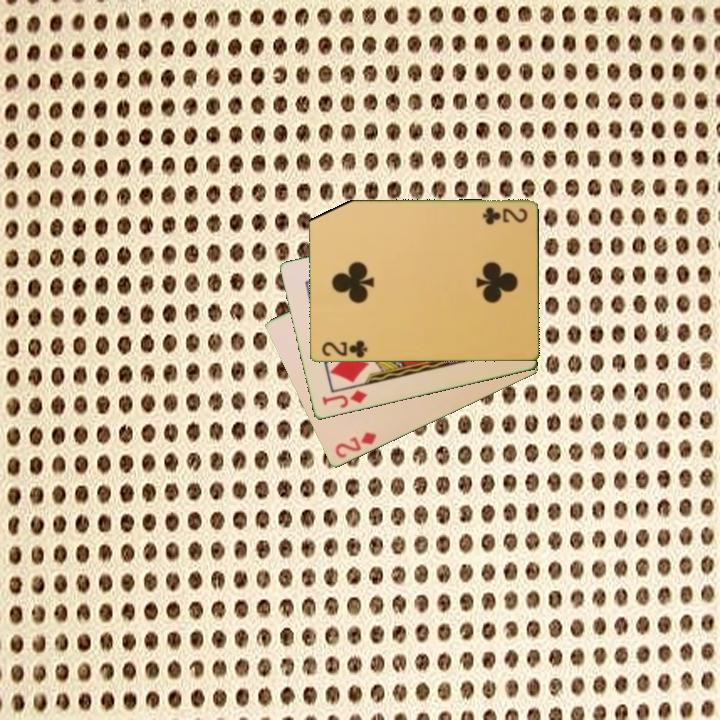2c: (318, 337, 370, 360), (479, 204, 530, 226)
2d: (331, 428, 379, 461)
Jd: (318, 386, 370, 411)
